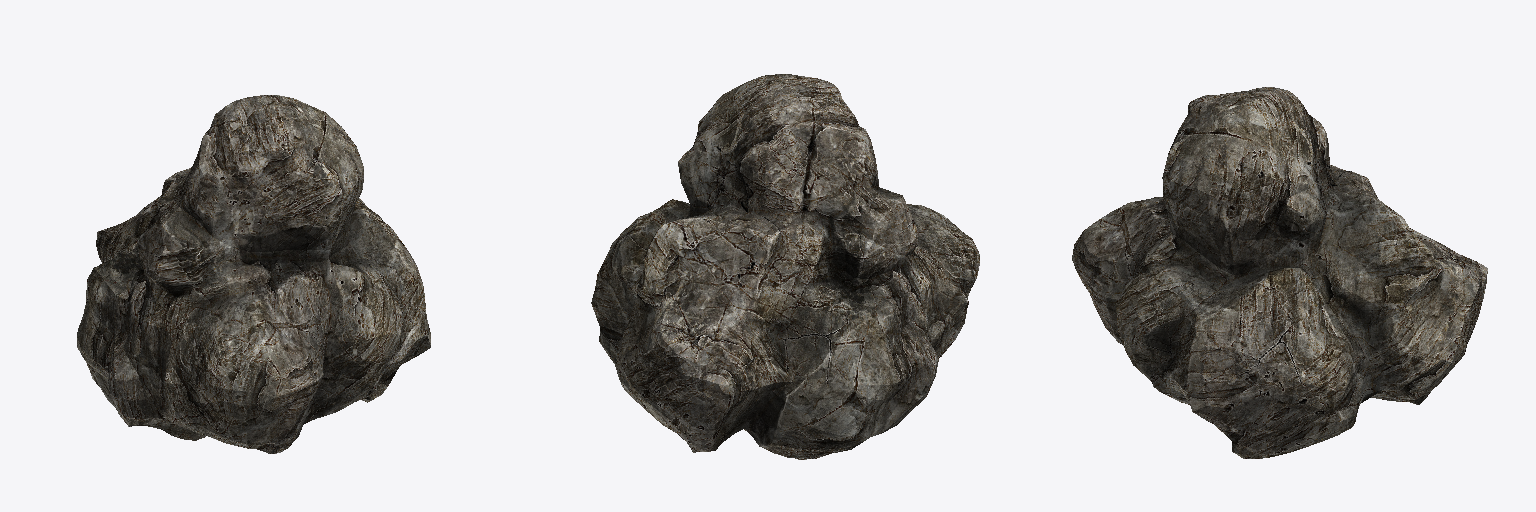
3 views of the same model, side by side, from view 1: azimuth 30°, elevation 25°; view 2: azimuth 150°, elevation 25°; view 3: azimuth 270°, elevation 25° (orthographic).
Visible parts, largest first — view 1: asteroid; view 2: asteroid; view 3: asteroid.
Boxes of the visible parts, x1=… form: asteroid: x1=77, y1=95, x2=430, y2=453; asteroid: x1=591, y1=74, x2=979, y2=459; asteroid: x1=1072, y1=87, x2=1487, y2=458.
Bounding box in the file's own units: 5.21 × 5.22 × 5.99.
1 materials, 1 textured.